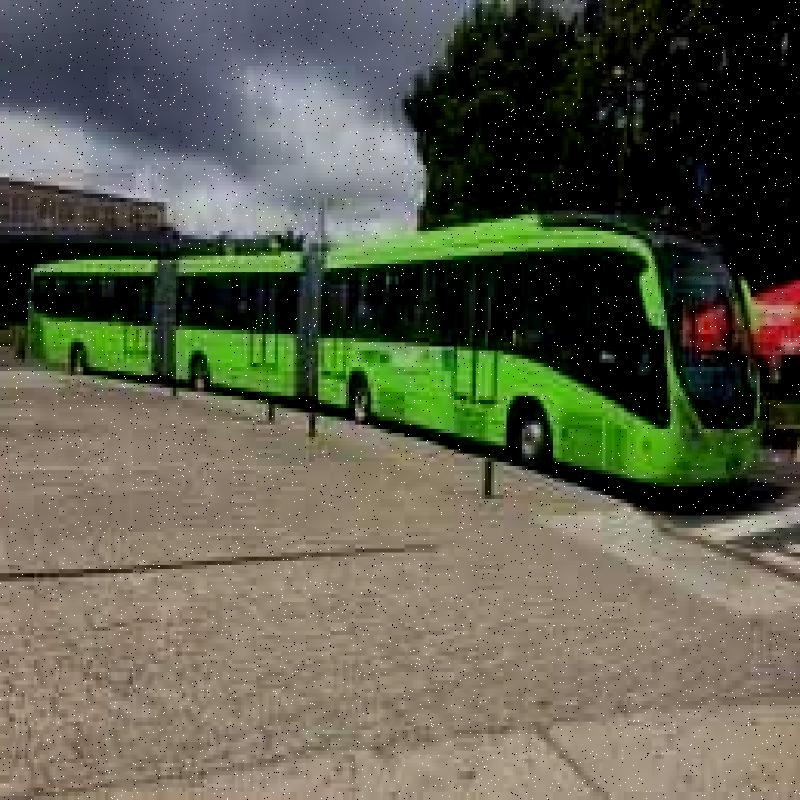bus: (306, 179, 768, 530)
